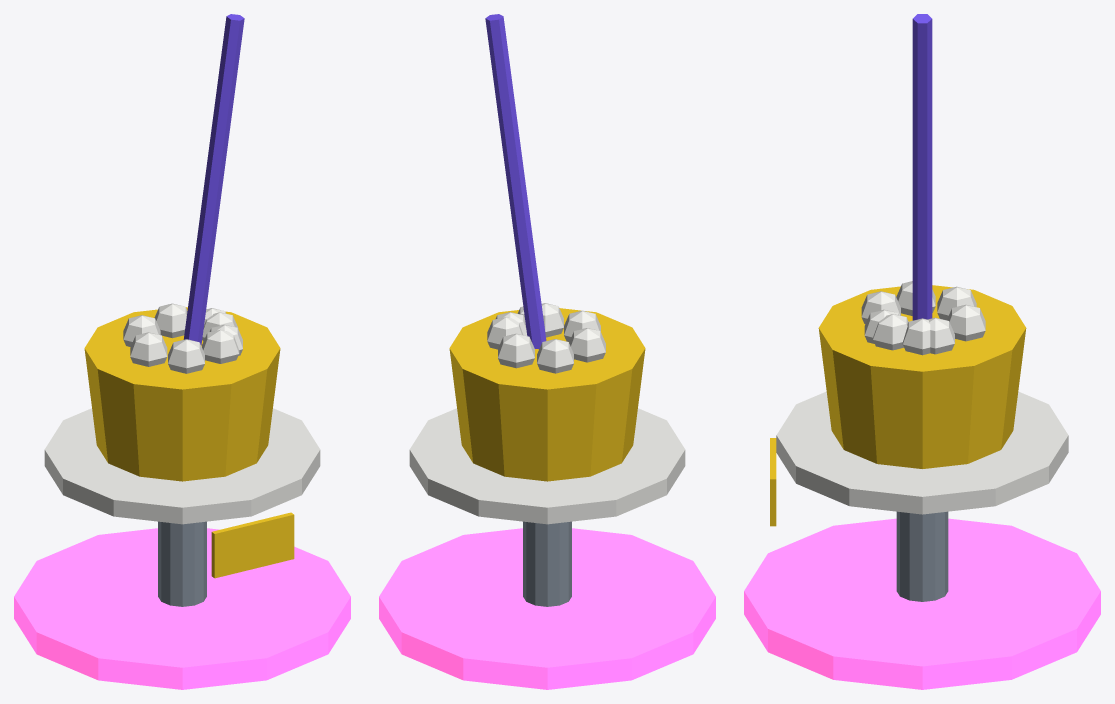
The model's file is item-mop.glb.
The picture shows the model from 3 angles, left to right: view 1: azimuth 30°, elevation 25°; view 2: azimuth 150°, elevation 25°; view 3: azimuth 270°, elevation 25°; orthographic projection. The views are drawn at different scales.
Visible parts, largest first — view 1: item-mop; view 2: item-mop; view 3: item-mop.
Boxes of the visible parts, x1,y1,x2,y2 form: item-mop: [14, 14, 350, 689]; item-mop: [379, 14, 715, 689]; item-mop: [744, 14, 1100, 689].
Bounding box in the file's own units: 1.1 × 2.12 × 1.1.
